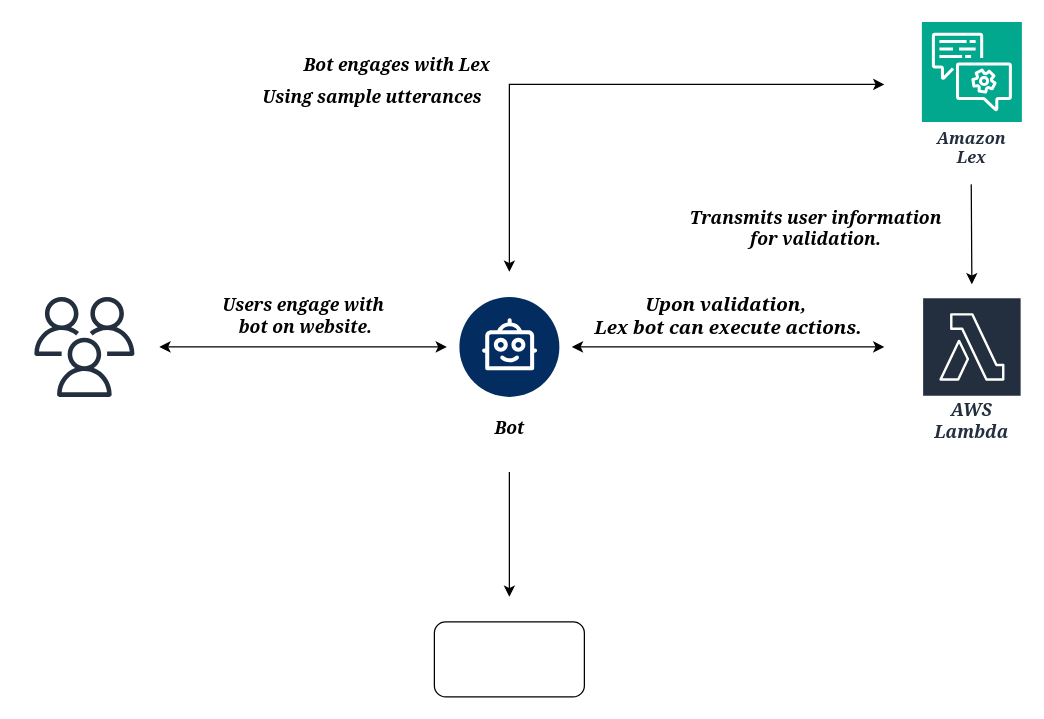
Image size: 1044x719. Some labels were removed from this diagram. Each missing label, with the centre of its shape:
"Final Output" goes at (x=508, y=659).
"Users" goes at (x=84, y=346).
